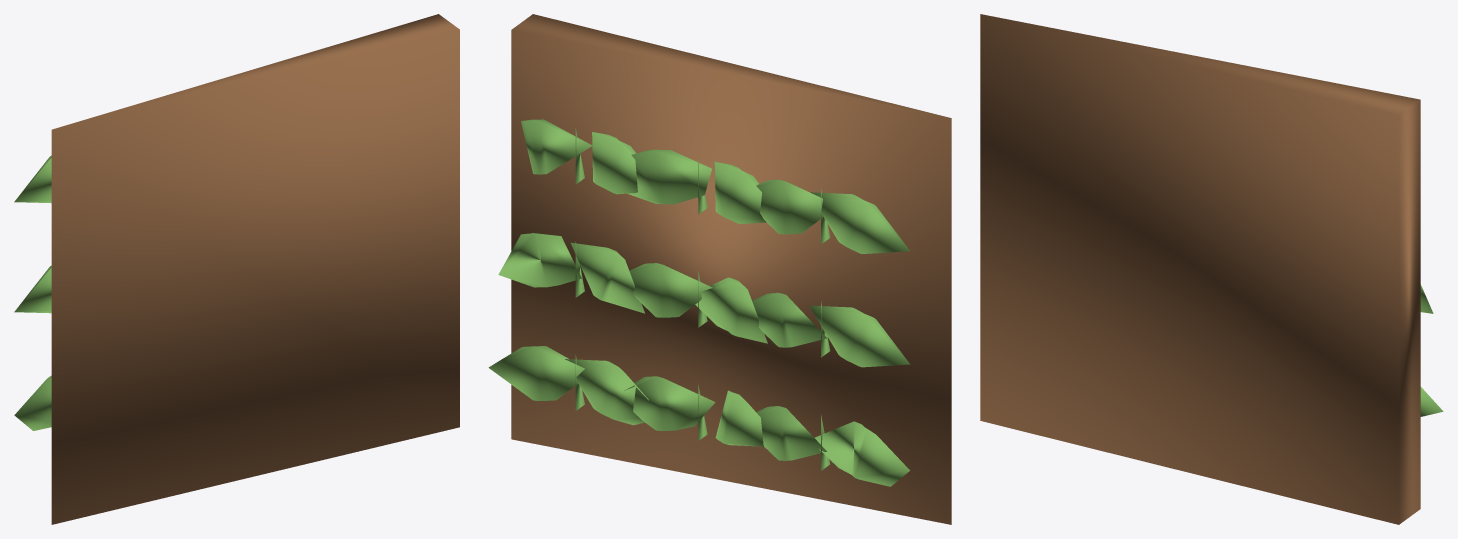
The model's file is corn_sprout.glb.
3 renders of one model, left to right at view 1: azimuth 30°, elevation 25°; view 2: azimuth 150°, elevation 25°; view 3: azimuth 330°, elevation 25°, orthographic. The views are drawn at different scales.
Parts seen in each view (by area): view 1: Soil, Leaf, Leaf.002, Leaf.004; view 2: Soil, Leaf.002, Leaf, Leaf.004, Leaf.011, Leaf.013, Leaf.015, Leaf.007, Leaf.009, Leaf.012, Leaf.014, Leaf.005 (+7 smaller); view 3: Soil.
Part boxes in pixels (x1,y1,x2,y2): Soil: [51, 14, 459, 524]; Leaf: [14, 375, 51, 430]; Leaf.002: [14, 265, 51, 313]; Leaf.004: [14, 155, 51, 203]; Soil: [511, 14, 951, 524]; Leaf.002: [809, 305, 910, 367]; Leaf: [814, 421, 909, 486]; Leaf.004: [810, 192, 909, 253]; Leaf.011: [627, 149, 711, 204]; Leaf.013: [488, 346, 584, 400]; Leaf.015: [498, 233, 581, 287]; Leaf.007: [624, 376, 715, 430]; Leaf.009: [629, 263, 712, 317]; Leaf.012: [565, 359, 648, 425]; Leaf.014: [571, 242, 644, 313]; Leaf.005: [756, 179, 823, 234]; Soil: [980, 14, 1420, 524].
Size of the model in its own units: 1.17 by 1.08 by 0.2044.
